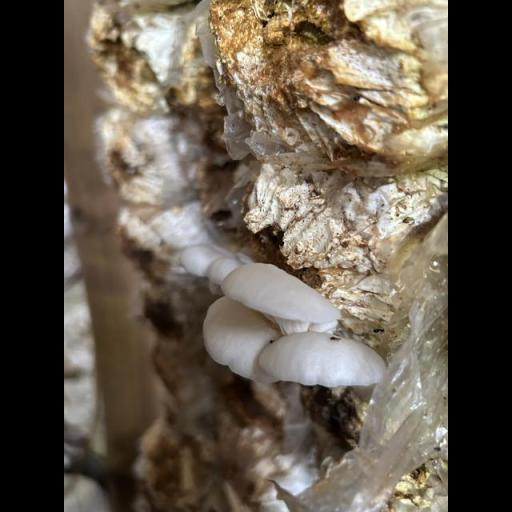White Oyster Mushroom: (189, 242, 396, 414)
